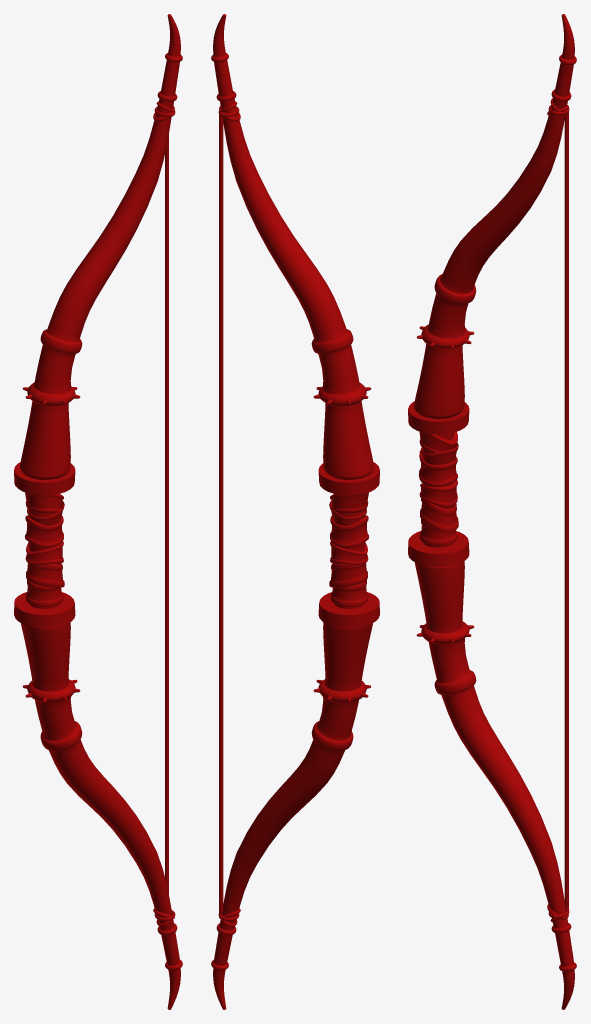
File: bow_low.fbx
3 renders of one model, left to right at view 1: azimuth 30°, elevation 25°; view 2: azimuth 150°, elevation 25°; view 3: azimuth 330°, elevation 25°, orthographic.
Visible parts, largest first — view 1: wood_low, wraps_low, string_low; view 2: wood_low, string_low, wraps_low; view 3: wood_low, string_low, wraps_low.
Part boxes in pixels (x1,y1,x2,y2): wood_low: [14, 14, 182, 1009]; wraps_low: [25, 492, 64, 606]; string_low: [153, 101, 175, 926]; wood_low: [211, 14, 379, 1009]; string_low: [218, 101, 240, 926]; wraps_low: [329, 492, 368, 606]; wood_low: [408, 14, 576, 1009]; string_low: [547, 98, 569, 922]; wraps_low: [419, 431, 458, 545].
Bounding box in the file's own units: 0.8364 × 4.87 × 0.2733.
